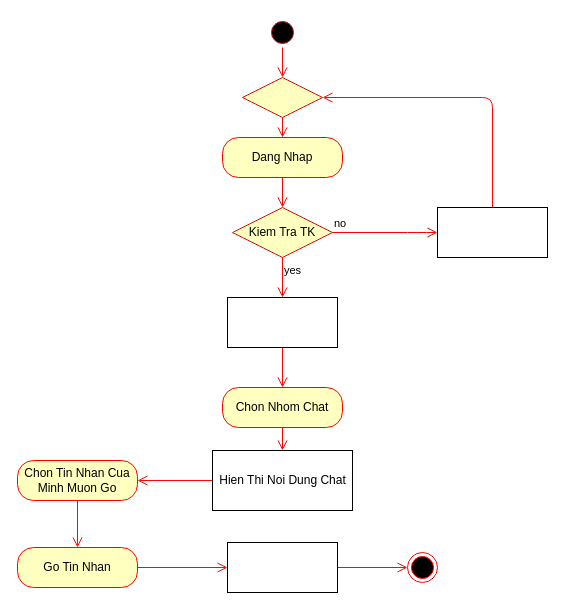
The diagram is 565 pixels wide and 610 high, and some of its shapes have lost their labels. Here are the shapes that lost their labels. From the top down, the centre of each, then its label:
the point at 492,232: Thong Bao Sai
the point at 282,322: Hien Thi Trang Chu
the point at 282,567: Hien Thi Tin Nhan Da Duoc Go
